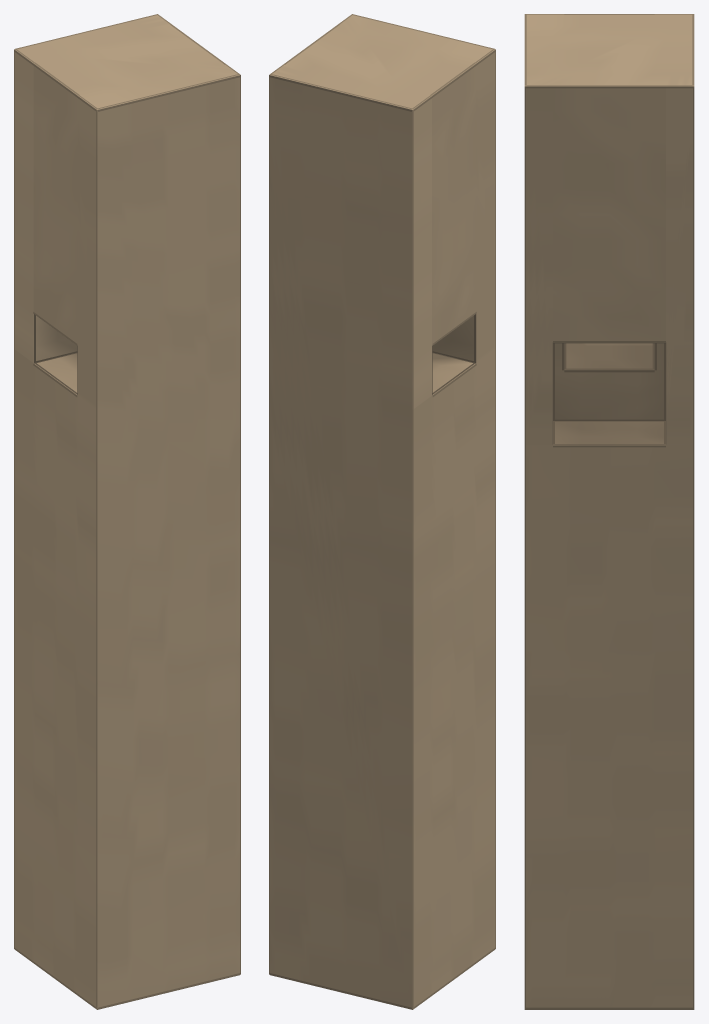
3 renders of one model, left to right at view 1: azimuth 30°, elevation 25°; view 2: azimuth 150°, elevation 25°; view 3: azimuth 270°, elevation 25°, orthographic. The views are drawn at different scales.
Visible parts, largest first — view 1: part-a; view 2: part-a; view 3: part-a.
Part boxes in pixels (left/top/right/bottom): part-a: left=14, top=14, right=240, bottom=1009; part-a: left=269, top=14, right=495, bottom=1009; part-a: left=524, top=14, right=694, bottom=1009.
Size of the model in its own units: 0.1208 by 0.7208 by 0.1208.
